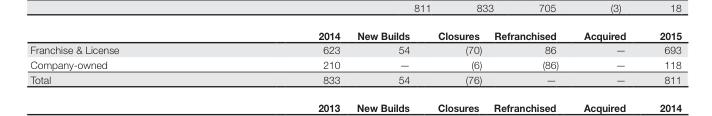table: (29, 28, 680, 85)
table column: (29, 28, 218, 85), (218, 28, 347, 85), (487, 28, 570, 85), (347, 28, 423, 85), (570, 28, 642, 85), (423, 28, 487, 85), (642, 28, 680, 85)
table column header: (29, 28, 680, 42)
table row: (29, 56, 680, 71), (29, 28, 680, 42), (29, 42, 680, 56), (29, 71, 680, 85)
